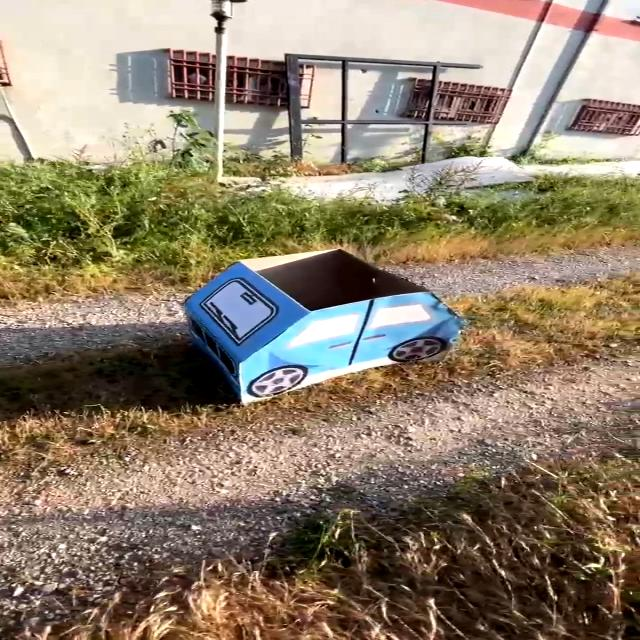blue_car: (119, 238, 498, 418)
